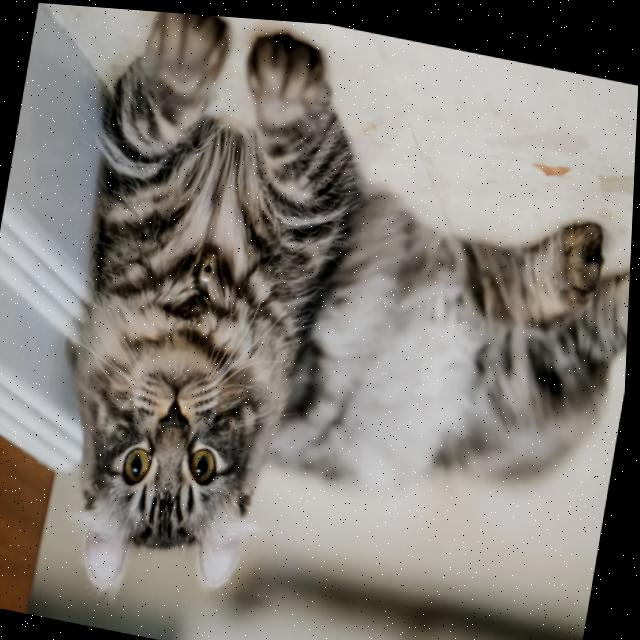American Curl: (24, 3, 640, 640)
